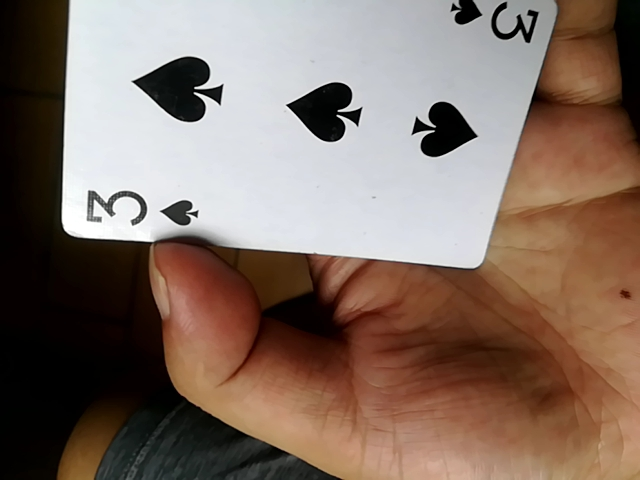ht 3: (62, 0, 557, 272)
